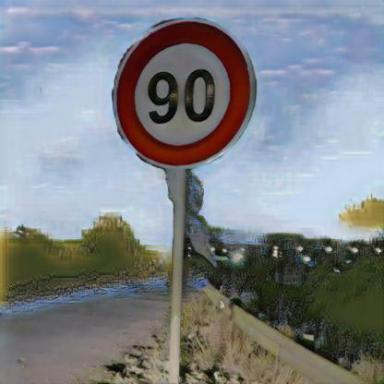Speed_limit_90: (111, 20, 254, 169)
